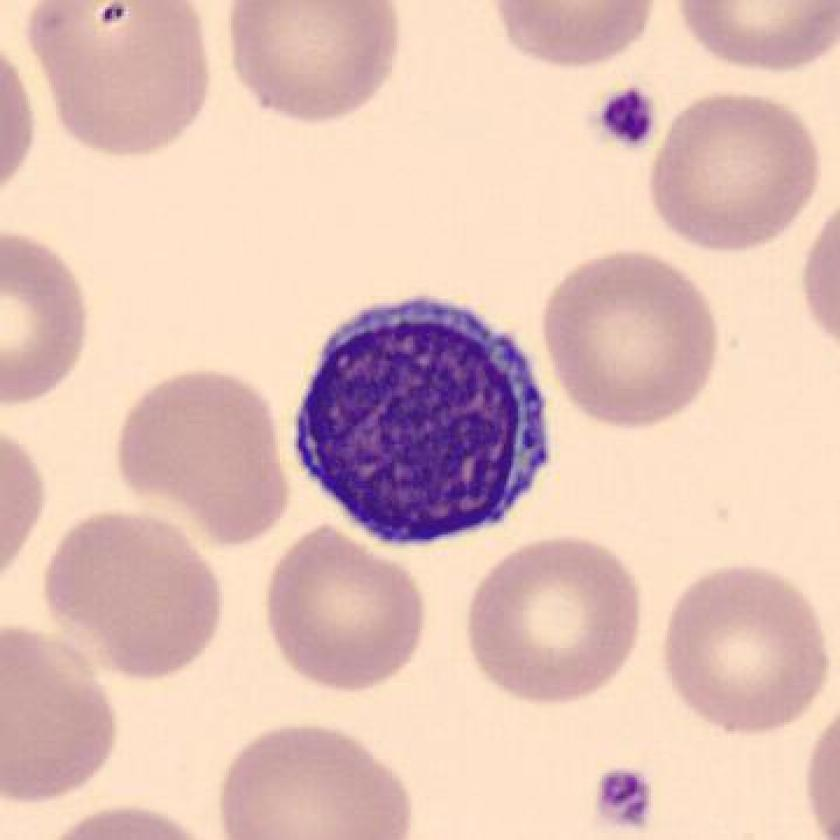lymphocyte: (277, 281, 571, 559)
